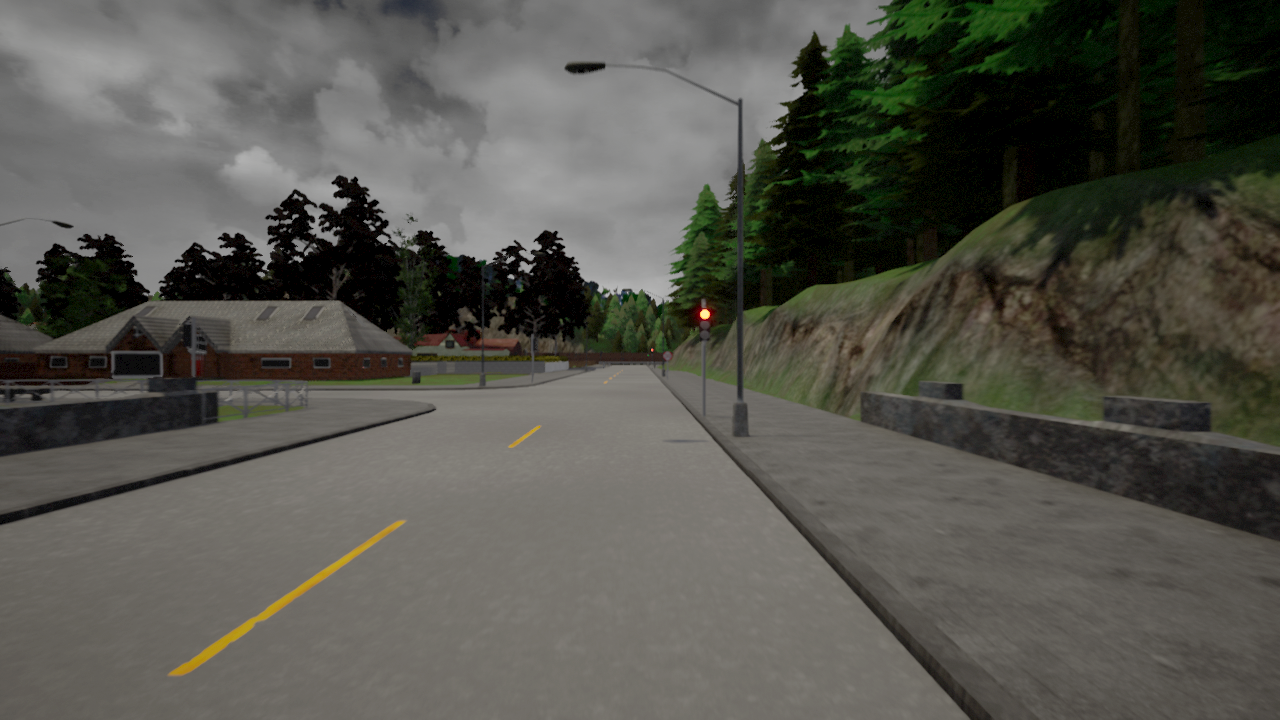red: (698, 307, 712, 339)
